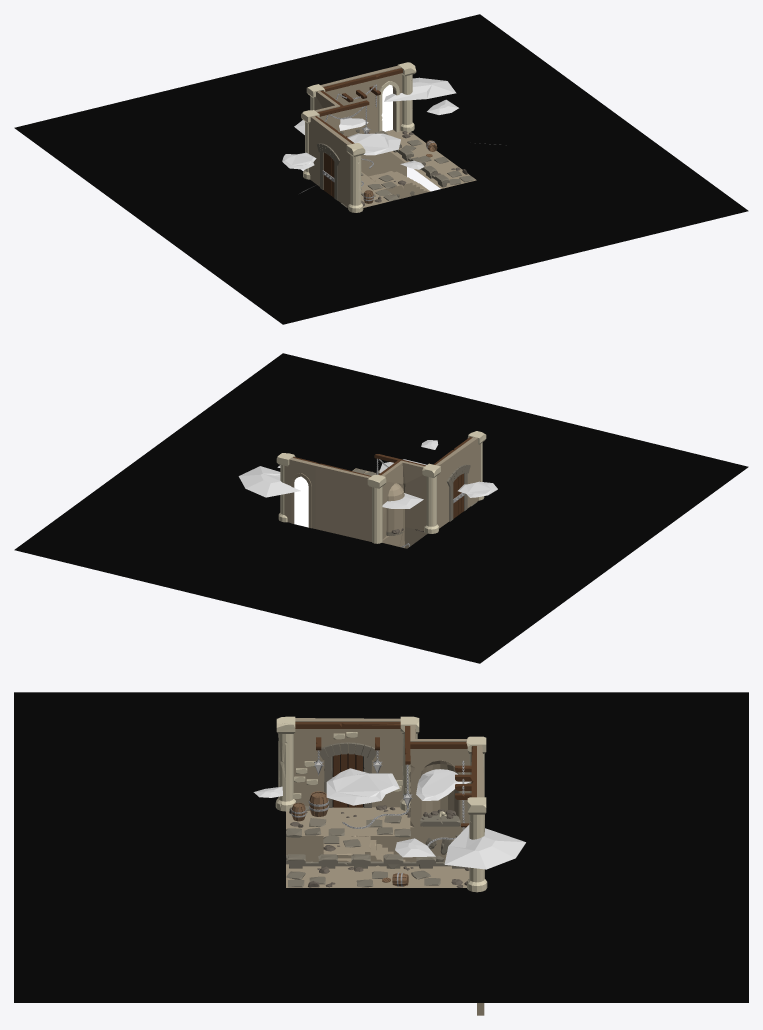
Rendered from Dungeon.glb.
The picture shows the model from 3 angles, top to bottom: view 1: azimuth 30°, elevation 25°; view 2: azimuth 150°, elevation 25°; view 3: azimuth 270°, elevation 25°; orthographic projection. The views are drawn at different scales.
Parts seen in each view (by area): view 1: Background, Wall, Chain string1, Stair, Pillar, Wood2, Tile, Door, Border; view 2: Background, Wall, Pillar, Chain string1, Door, Sphere; view 3: Background, Wall, Stair, Chain string1, Pillar, Tile, Door, Border, Wood2, Sphere, Circle.003, Rock (+2 smaller).
Part boxes in pixels (x1=…): Background: x1=14, y1=14, x2=748, y2=324; Wall: x1=309, y1=65, x2=406, y2=208; Chain string1: x1=282, y1=77, x2=506, y2=193; Stair: x1=361, y1=130, x2=476, y2=207; Pillar: x1=301, y1=62, x2=416, y2=212; Wood2: x1=315, y1=68, x2=402, y2=143; Tile: x1=341, y1=139, x2=474, y2=207; Door: x1=317, y1=143, x2=339, y2=200; Border: x1=375, y1=130, x2=449, y2=187; Background: x1=14, y1=353, x2=748, y2=663; Wall: x1=284, y1=437, x2=480, y2=548; Pillar: x1=276, y1=431, x2=486, y2=543; Chain string1: x1=238, y1=440, x2=497, y2=508; Door: x1=446, y1=464, x2=470, y2=521; Sphere: x1=386, y1=483, x2=404, y2=535; Background: x1=14, y1=692, x2=748, y2=1002; Wall: x1=293, y1=718, x2=484, y2=1015; Stair: x1=286, y1=807, x2=469, y2=887; Chain string1: x1=253, y1=768, x2=525, y2=869; Pillar: x1=275, y1=716, x2=487, y2=892; Tile: x1=286, y1=806, x2=440, y2=887; Door: x1=317, y1=742, x2=377, y2=807; Border: x1=286, y1=854, x2=464, y2=868; Wood2: x1=295, y1=722, x2=476, y2=797; Sphere: x1=420, y1=760, x2=460, y2=826; Circle.003: x1=291, y1=791, x2=408, y2=886; Rock: x1=289, y1=805, x2=469, y2=887.
Bounding box in the file's own units: 15.39 × 4.95 × 15.39.
